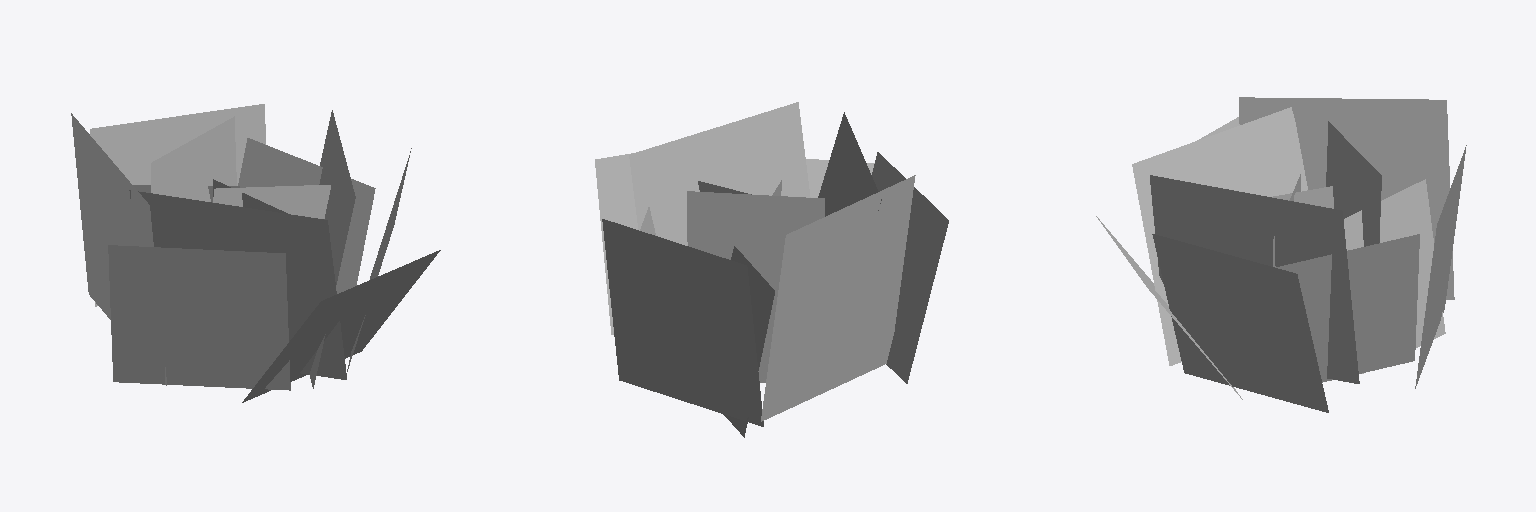
File: grass.obj
The picture shows the model from 3 angles: view 1: azimuth 30°, elevation 25°; view 2: azimuth 150°, elevation 25°; view 3: azimuth 270°, elevation 25°; orthographic projection.
Parts seen in each view (by area): view 1: grass; view 2: grass; view 3: grass.
Boxes of the visible parts, <box> form: grass: <box>71,104,440,402</box>; grass: <box>595,102,948,437</box>; grass: <box>1096,97,1466,412</box>.
Size of the model in its own units: 1.5 by 0.929 by 1.47.